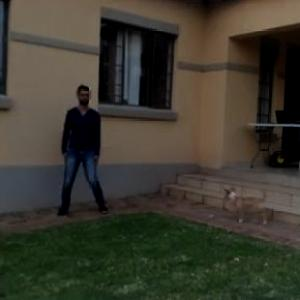follow: (73, 88, 113, 218)
